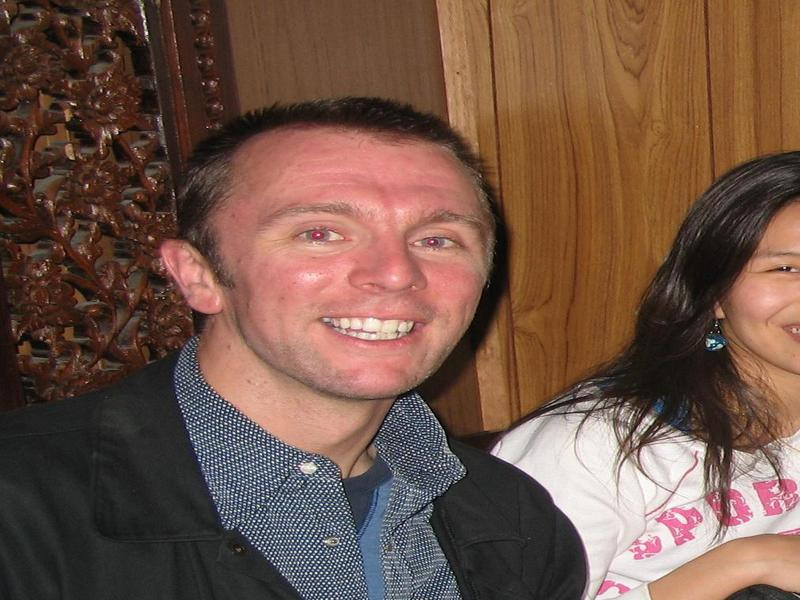person: (2, 95, 578, 600), (491, 159, 798, 599)
